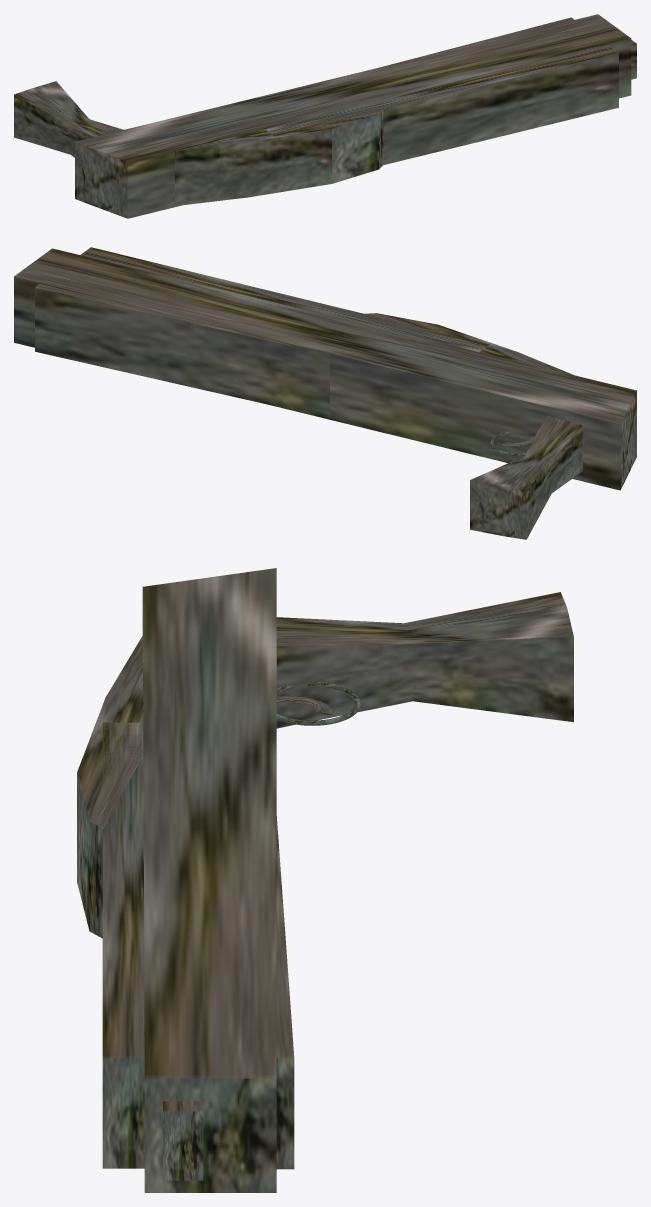
Rendered from mimita-heavyshotgun-v1.glb.
The picture shows the model from 3 angles, top to bottom: view 1: azimuth 30°, elevation 25°; view 2: azimuth 150°, elevation 25°; view 3: azimuth 270°, elevation 25°; orthographic projection. The views are drawn at different scales.
Visible parts, largest first — view 1: Cube.5158; view 2: Cube.5158; view 3: Cube.5158.
Part boxes in pixels (box(x1,y1,x2,y2)): Cube.5158: box(14, 14, 636, 218); Cube.5158: box(14, 247, 636, 539); Cube.5158: box(77, 568, 573, 1192).
Bounding box in the file's own units: 2.38 × 0.2433 × 0.9574.
1 material, 1 textured.
